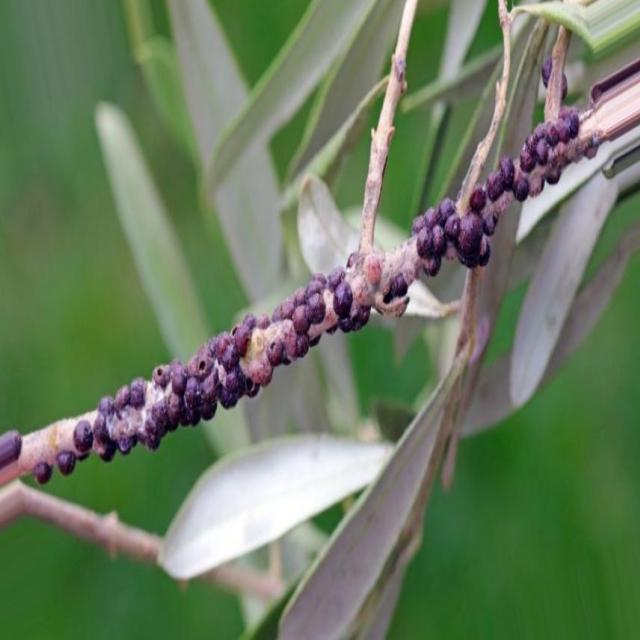BlackScale: (56, 253, 408, 479), (412, 106, 599, 276)
